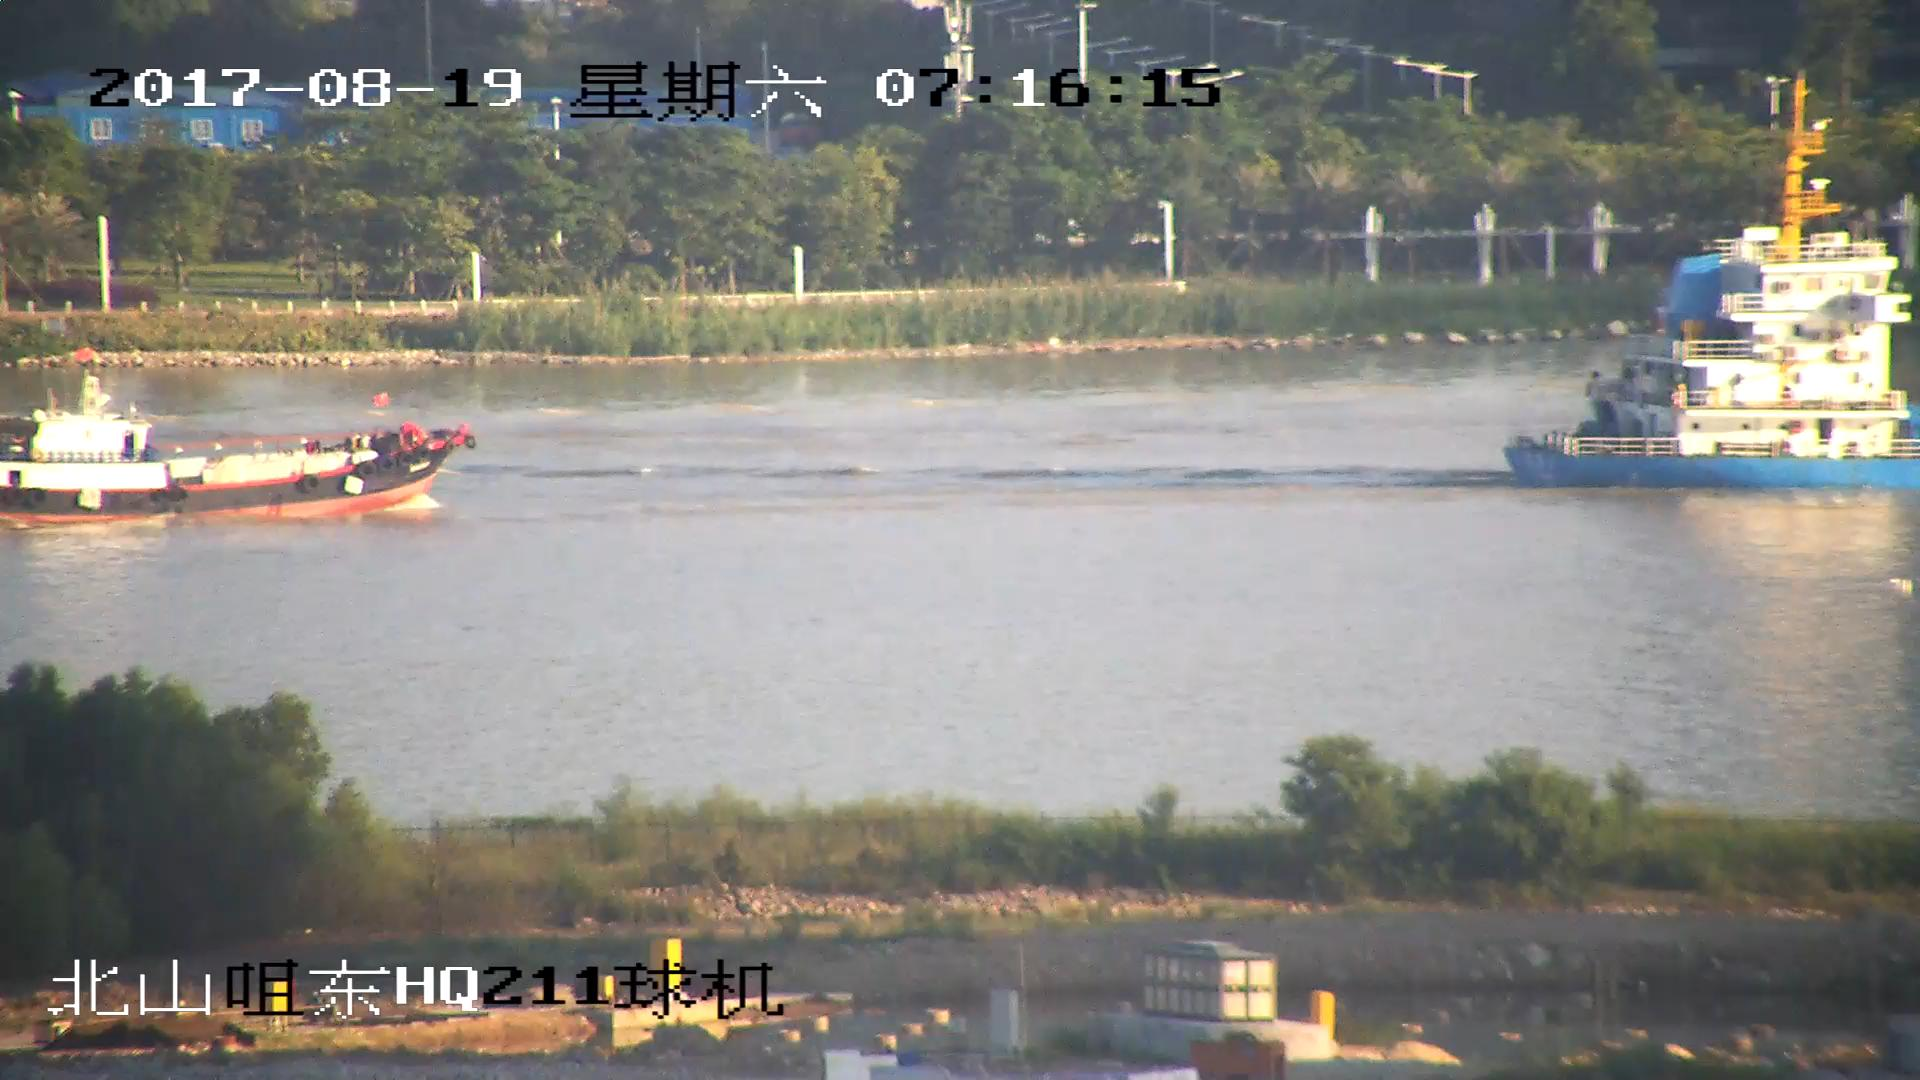fishing boat: (1, 357, 458, 523)
general cargo ship: (1508, 90, 1920, 490)
